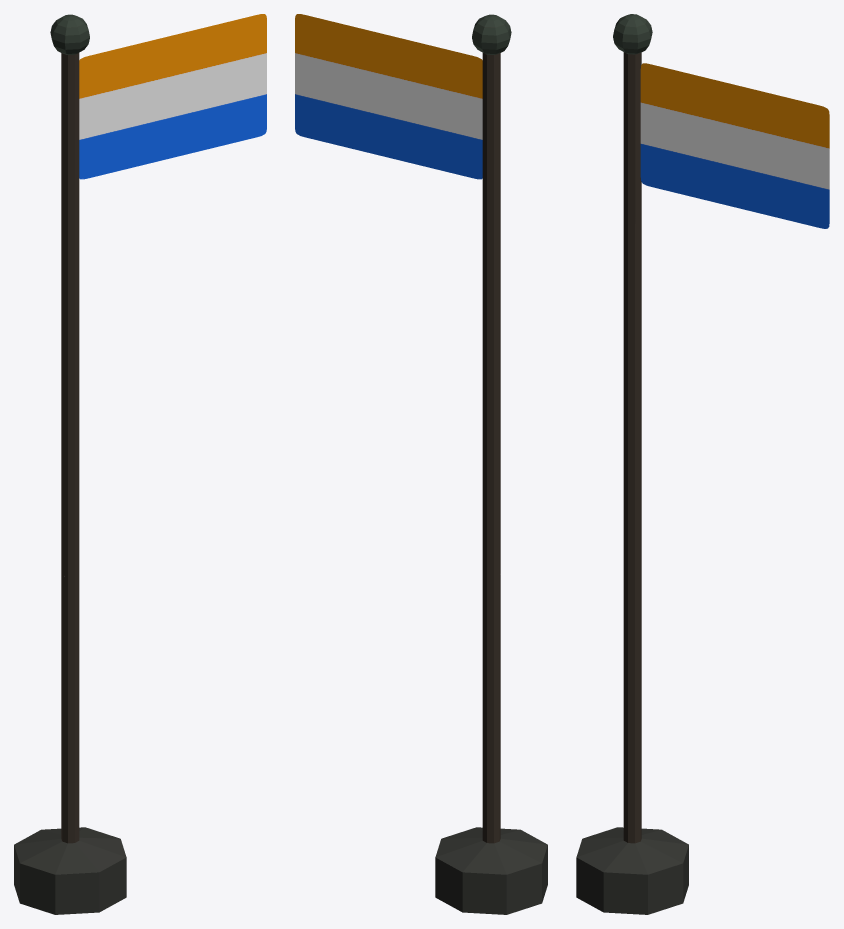
File: FlagpoleNL.fbx
The picture shows the model from 3 angles, left to right: view 1: azimuth 30°, elevation 25°; view 2: azimuth 150°, elevation 25°; view 3: azimuth 330°, elevation 25°; orthographic projection.
Parts seen in each view (by area): view 1: Flagpole, Flag; view 2: Flagpole, Flag; view 3: Flagpole, Flag.
Boxes of the visible parts, x1,y1,x2,y2 form: Flagpole: (14, 14, 126, 914); Flag: (79, 14, 266, 179); Flagpole: (435, 14, 547, 914); Flag: (295, 14, 482, 179); Flagpole: (576, 14, 688, 914); Flag: (640, 63, 829, 228).
Size of the model in its own units: 698 by 2362 by 285.
Materials: 2 (2 with a texture image).
